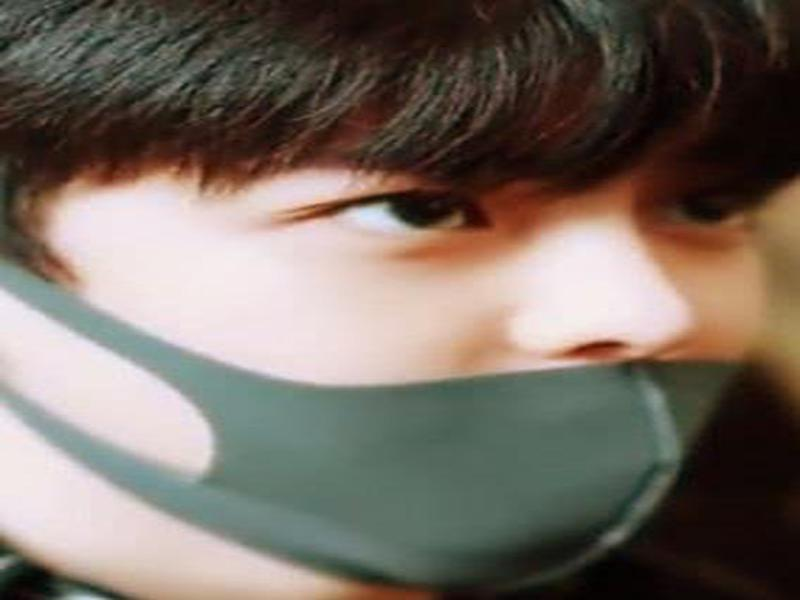with_mask: (1, 1, 793, 595)
